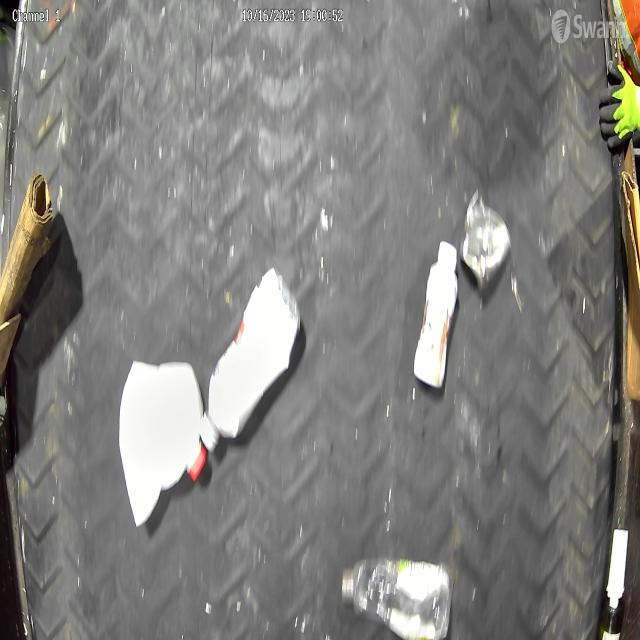can: (460, 186, 510, 294)
milk_jug: (120, 360, 203, 528)
plastic_bottle: (341, 553, 456, 640)
